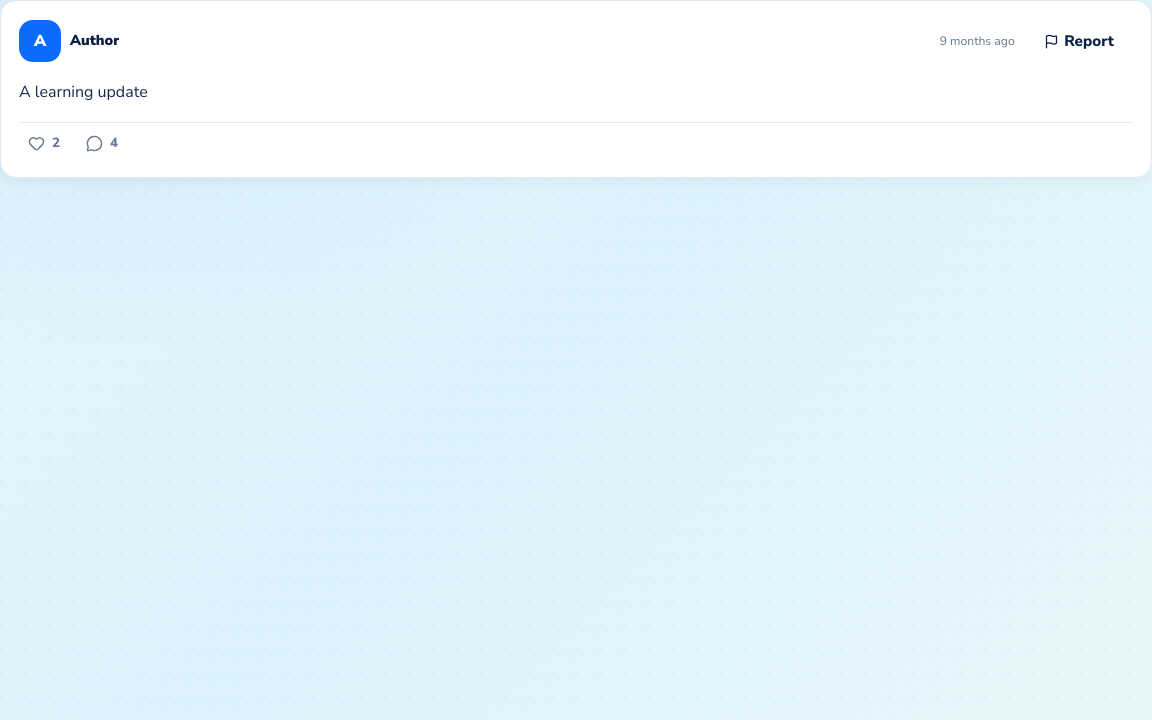
Test: PostCard optimistic likes › rolls the optimistic like count back when the request fails
Click the button named "Like post, 2 likes": (44, 144) [19,126,69,162]
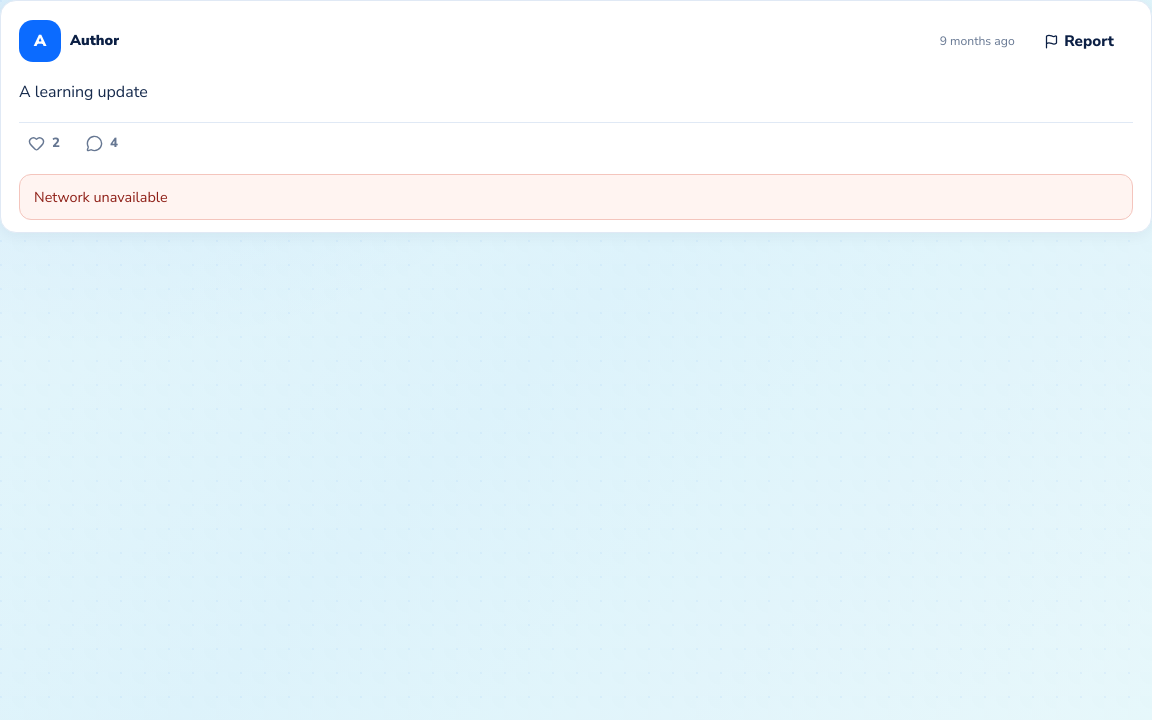
Result: the message reads "Network unavailable" at [34,187,168,207]
